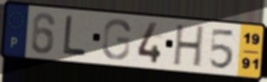4: (136, 20, 163, 65)
5: (208, 27, 237, 70)
6: (29, 11, 56, 55)
G: (101, 17, 133, 61)
H: (172, 23, 207, 69)
L: (62, 14, 89, 57)
